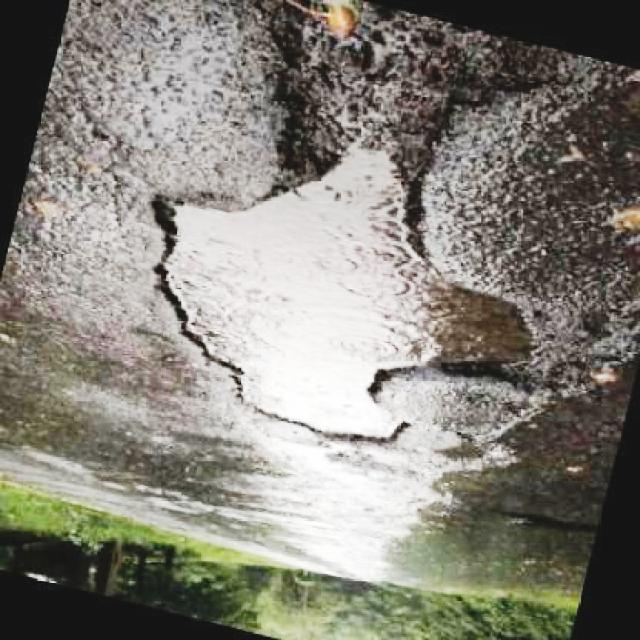pothole: (134, 152, 548, 446), (233, 0, 564, 226)
